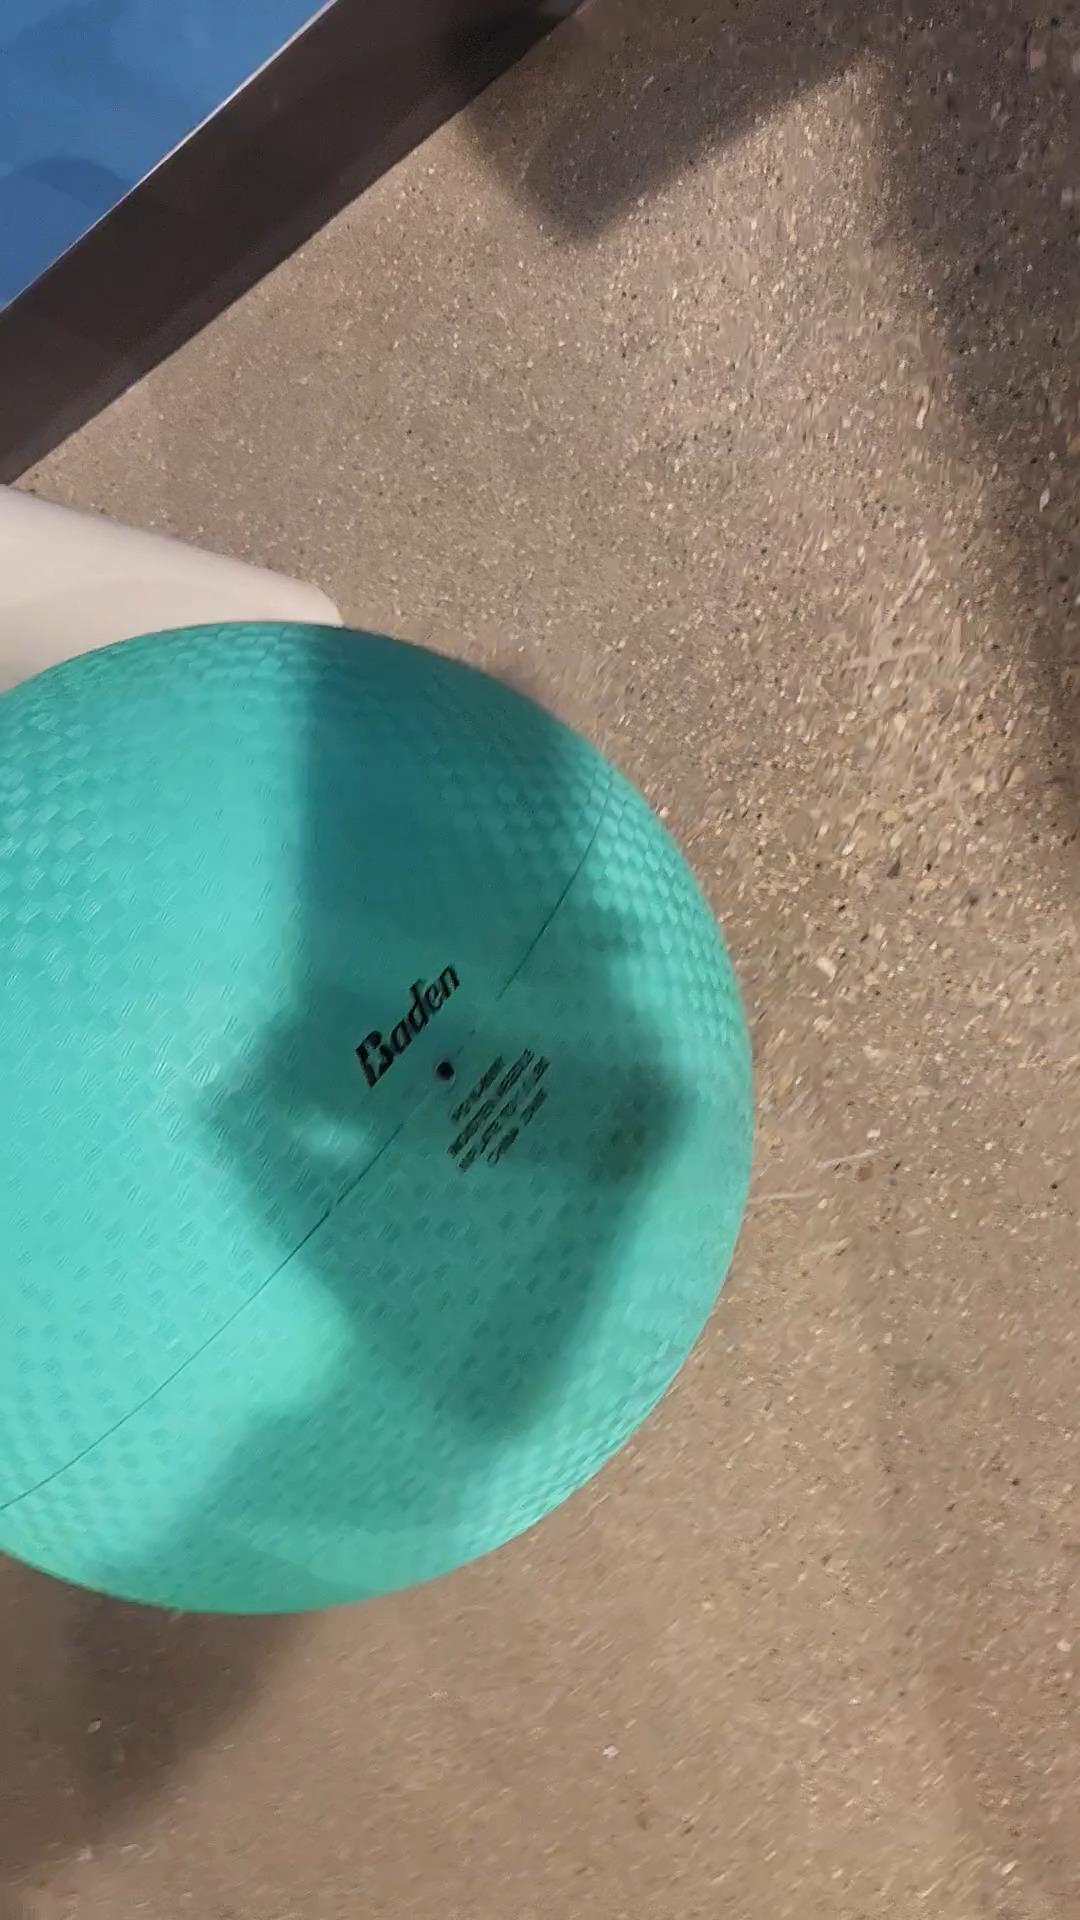algae: (0, 628, 766, 1613)
coral: (0, 458, 386, 709)
